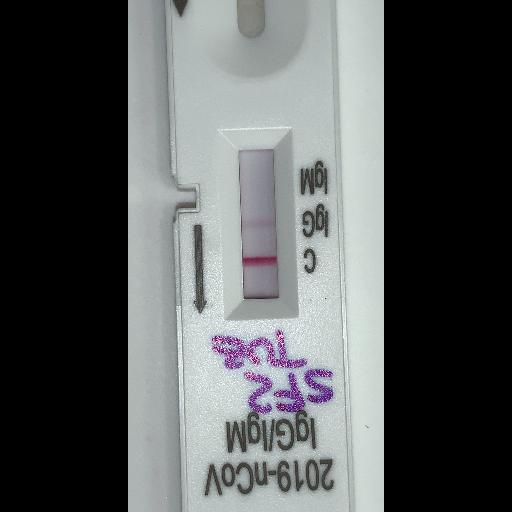Pos: (169, 0, 356, 511)
